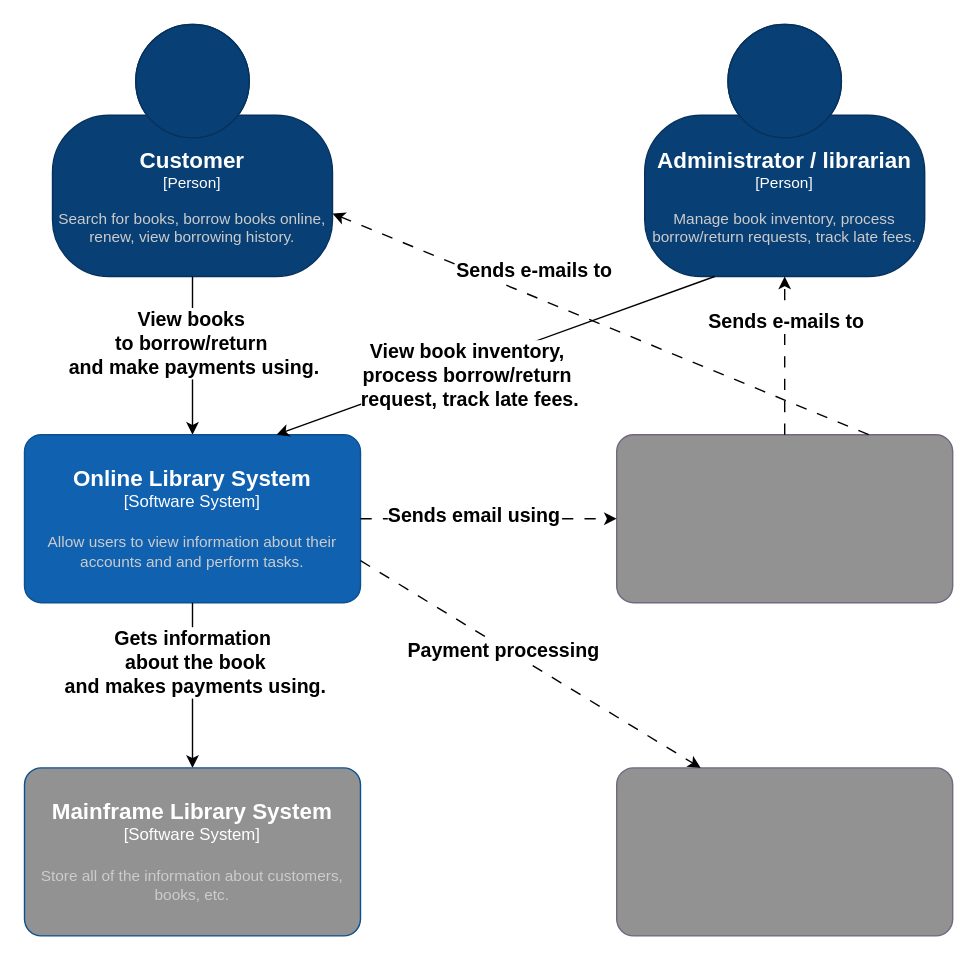
The diagram is 977 pixels wide and 960 high, and some of its shapes have lost their labels. The shapes that lost their labels are listed below. From the top down, each one's centre as x and y in pixels, then its label:
At (784,518): "E-mail System [Software System] Automated processing of notification emails.".
At (784,851): "Payment Gateway [Software System] Process membership fees or late fees.".
